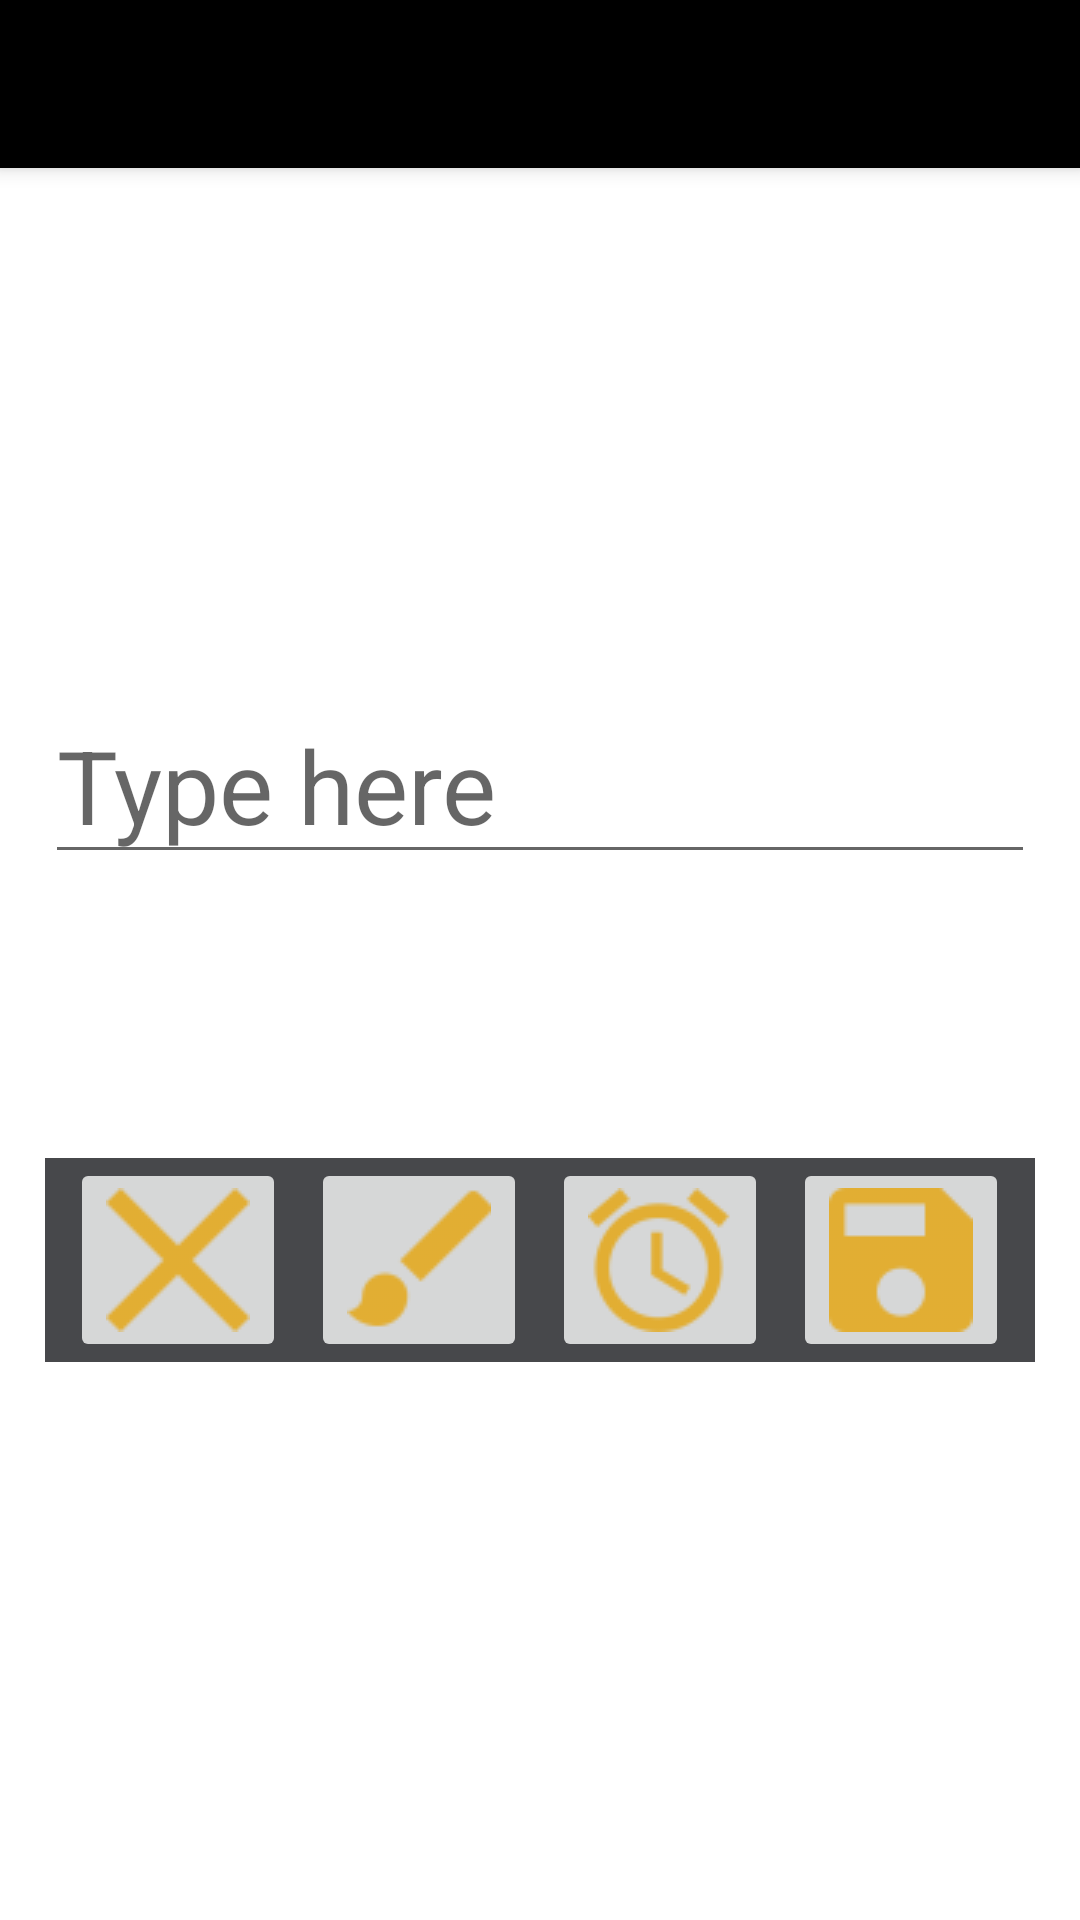

Icons on this 1080*1920 Android screen, each with its box as (x1, y1, x2, y2):
brush: (323, 1176, 515, 1344)
clock: (564, 1176, 756, 1344)
close: (82, 1176, 274, 1344)
save: (805, 1176, 997, 1344)
